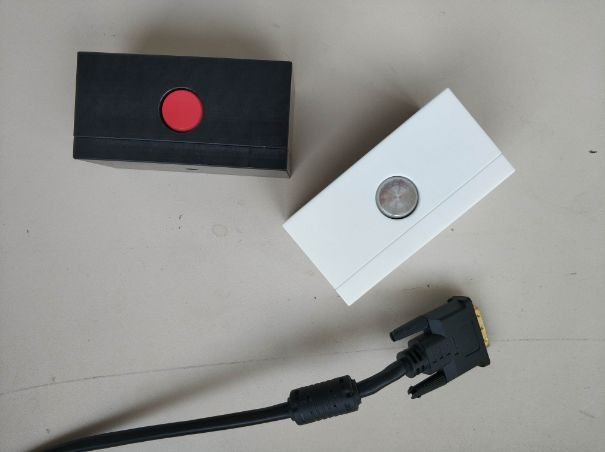black+black+red: (69, 48, 298, 180)
white+white+silver: (276, 85, 522, 312)
